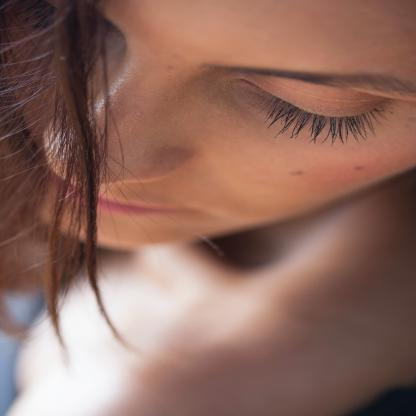Eye: (234, 74, 396, 141)
Mouth: (97, 178, 209, 223)
Nose: (37, 78, 198, 188)
